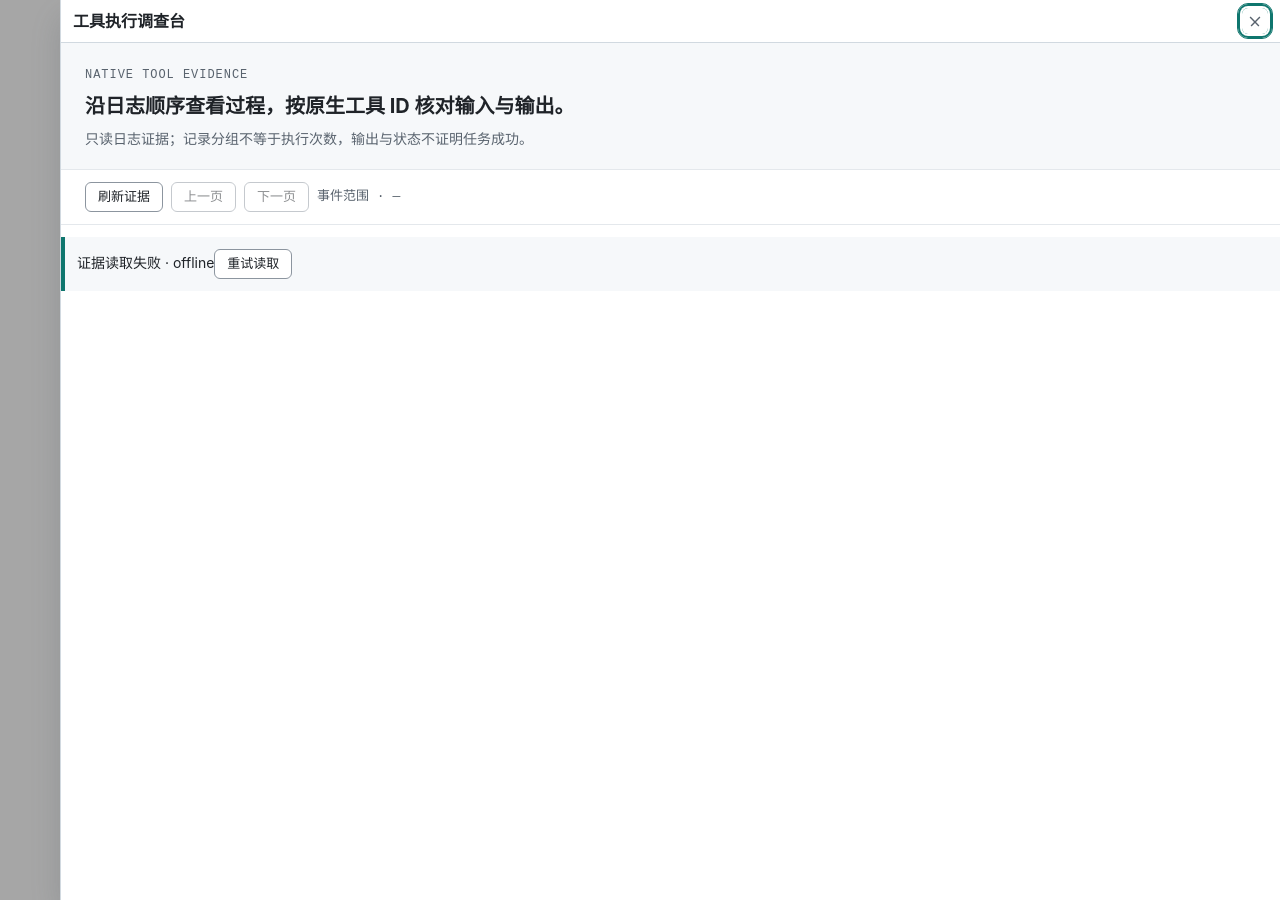
Scenario: tool investigation drawer › has explicit error retry and never retries automatically
Click the button "重试读取" at (253, 264), box [214,249,292,279]
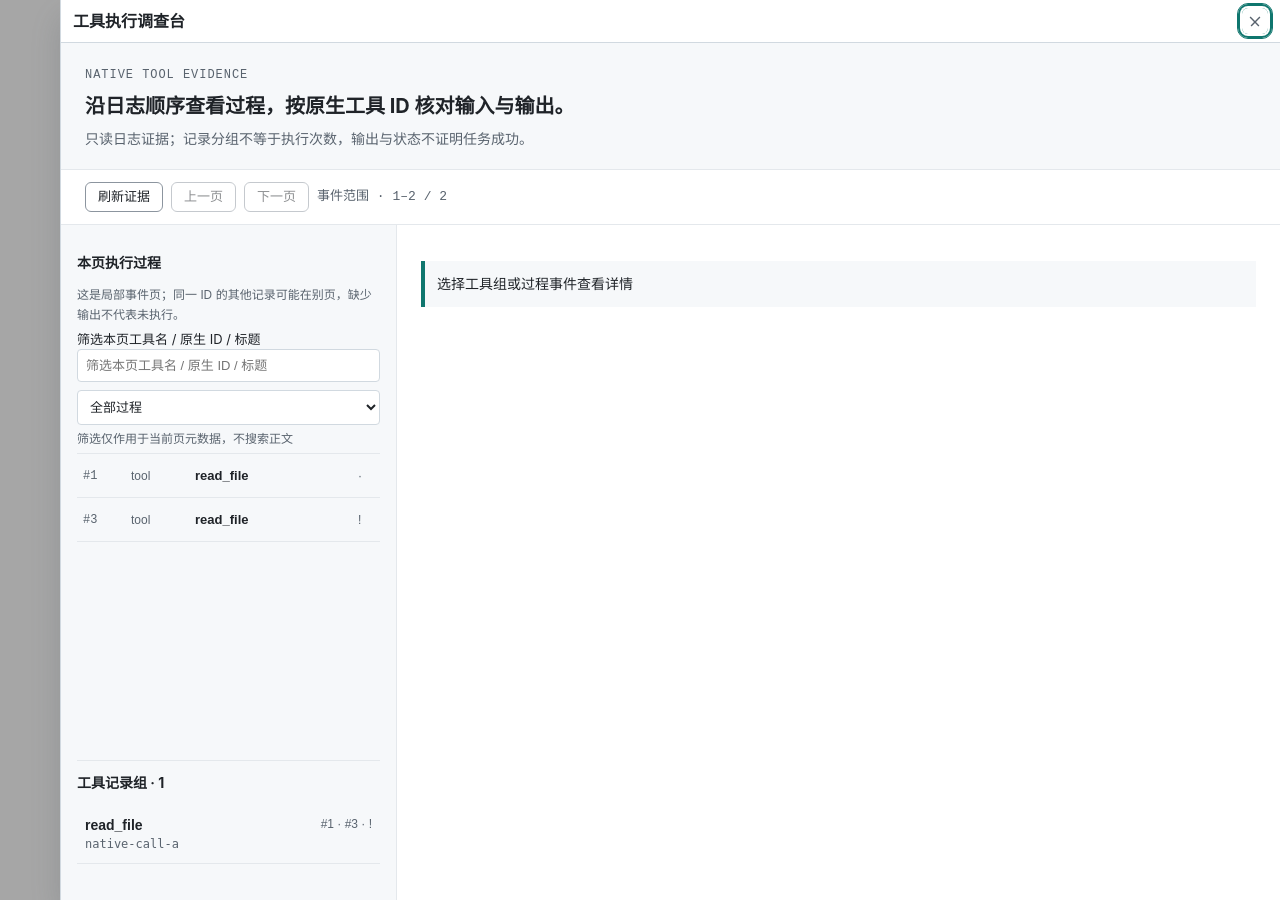
Result: the text "offline" is gone
